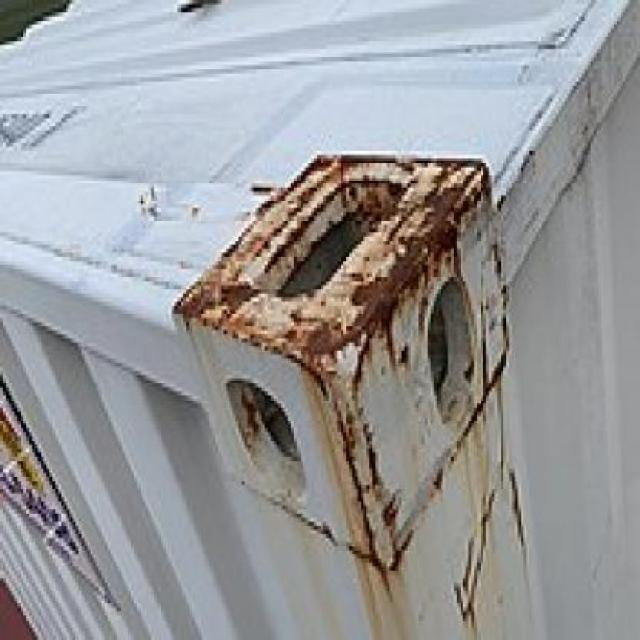Rust: (173, 153, 490, 379)
